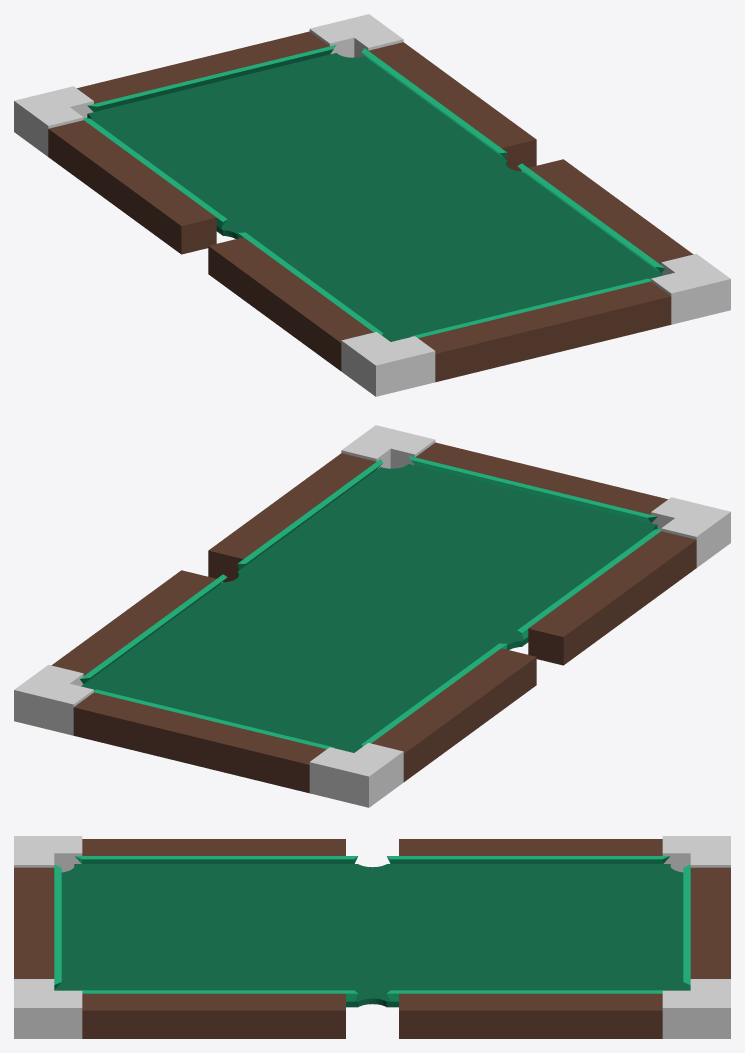
File: table.glb
The picture shows the model from 3 angles, top to bottom: view 1: azimuth 30°, elevation 25°; view 2: azimuth 150°, elevation 25°; view 3: azimuth 270°, elevation 25°; orthographic projection.
Parts seen in each view (by area): view 1: Table_Bed, Rail, Pocket_Liners, Cushions; view 2: Table_Bed, Rail, Pocket_Liners, Cushions; view 3: Table_Bed, Rail, Pocket_Liners, Cushions.
Boxes of the visible parts, left/top/right/bottom form: Table_Bed: left=87, top=53, right=663, bottom=341; Rail: left=48, top=31, right=693, bottom=382; Pocket_Liners: left=14, top=14, right=730, bottom=396; Cushions: left=83, top=45, right=664, bottom=338; Table_Bed: left=81, top=464, right=657, bottom=752; Rail: left=51, top=442, right=696, bottom=793; Pocket_Liners: left=14, top=425, right=730, bottom=807; Cushions: left=80, top=456, right=661, bottom=749; Table_Bed: left=54, top=864, right=690, bottom=1007; Rail: left=14, top=839, right=730, bottom=1038; Pocket_Liners: left=14, top=836, right=730, bottom=1038; Cushions: left=54, top=856, right=690, bottom=1001.
Bounding box in the file's own units: 1.66 × 0.1397 × 2.93.
